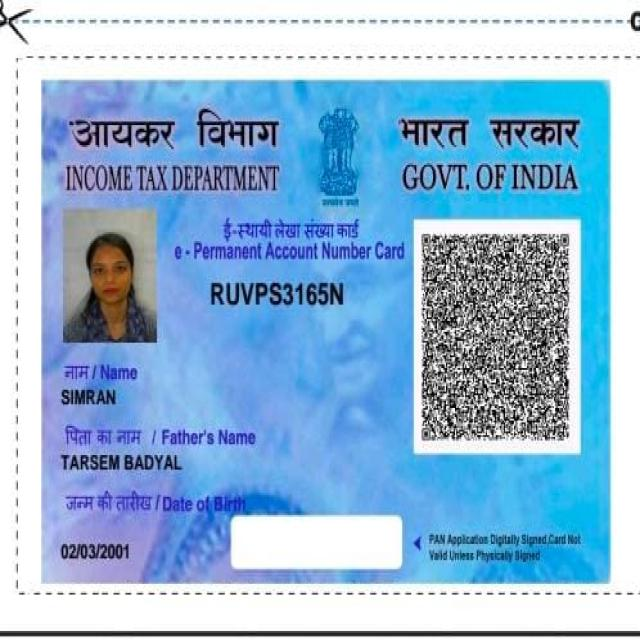pan_card: (47, 85, 610, 582)
